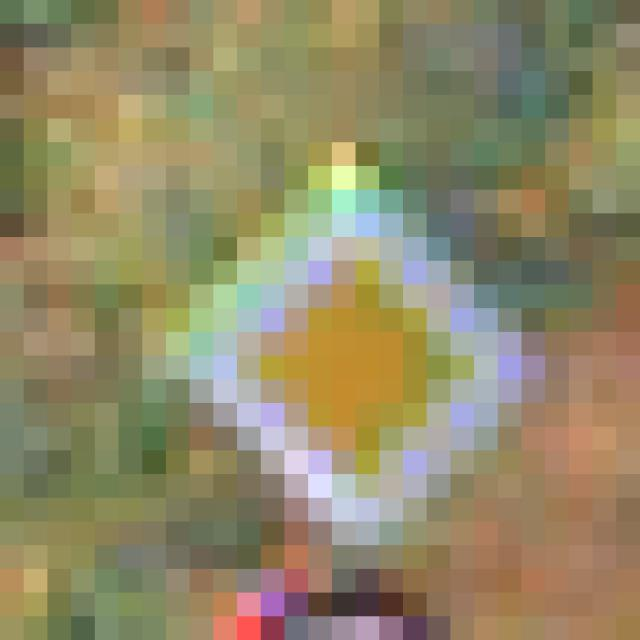Main Road: (143, 120, 499, 523)
